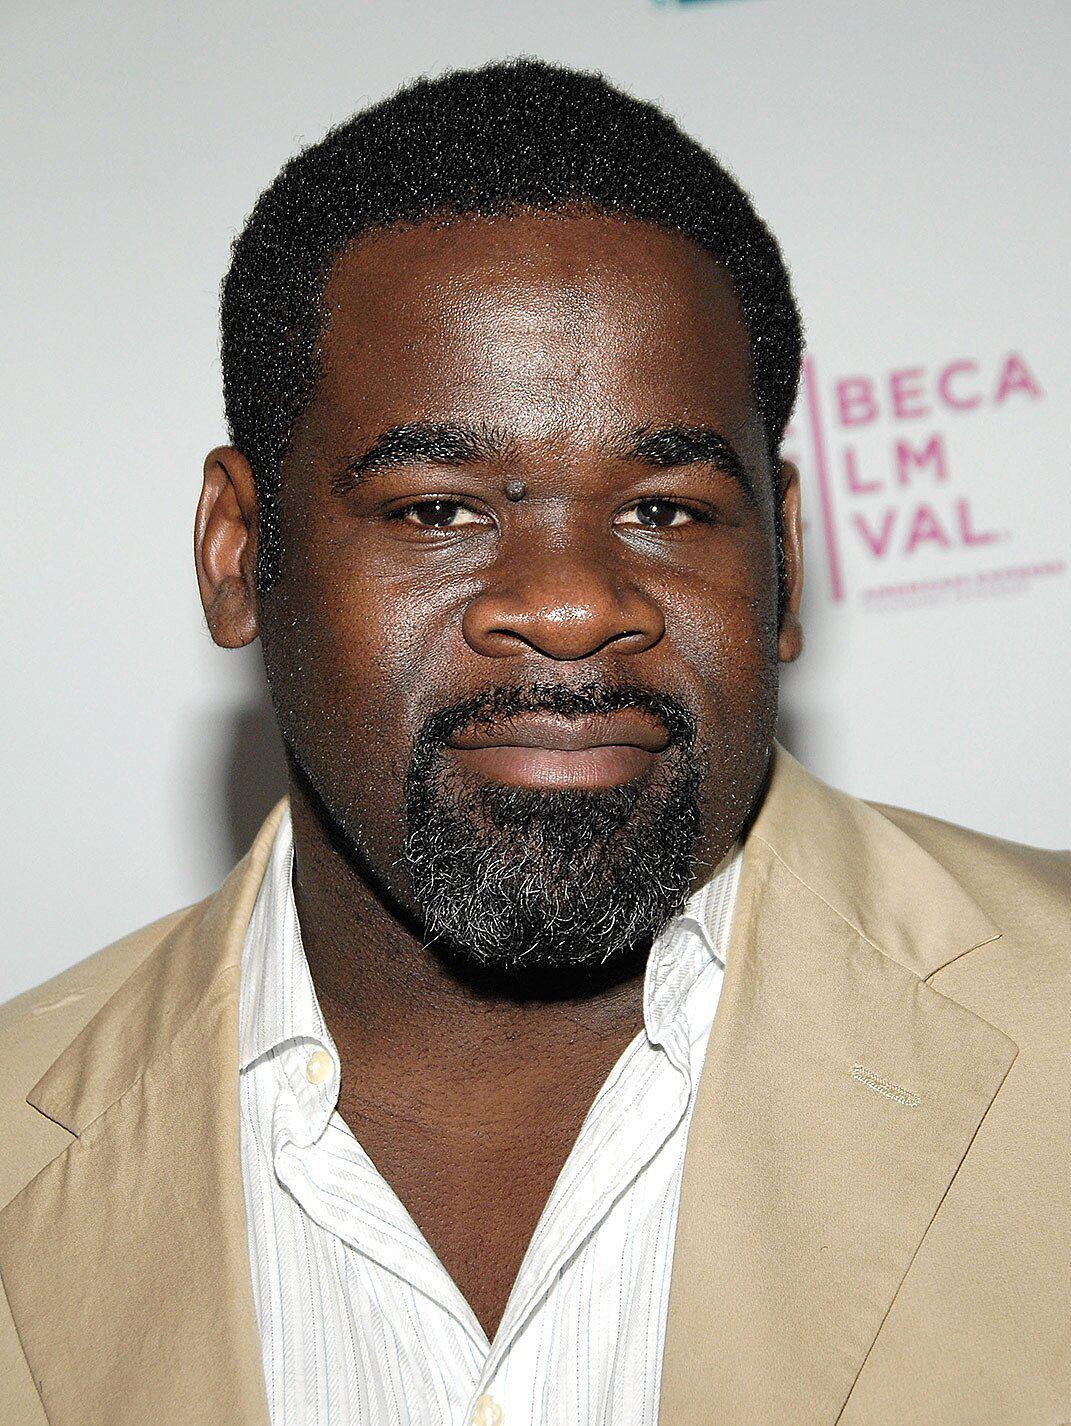Sober: (301, 234, 775, 892)
